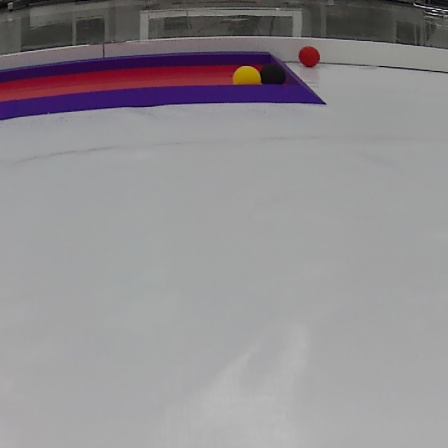black: (262, 59, 289, 89)
red: (298, 43, 328, 67)
red_aim: (0, 54, 334, 113)
yellow: (231, 64, 261, 92)
